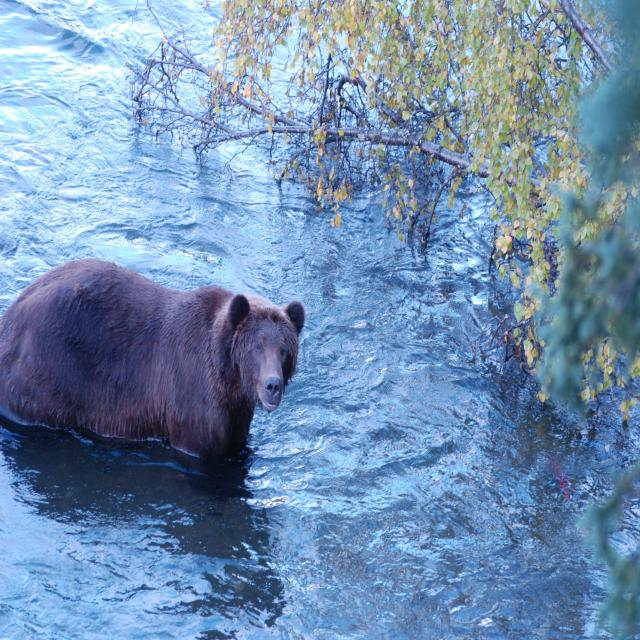bear face: (0, 260, 307, 459)
